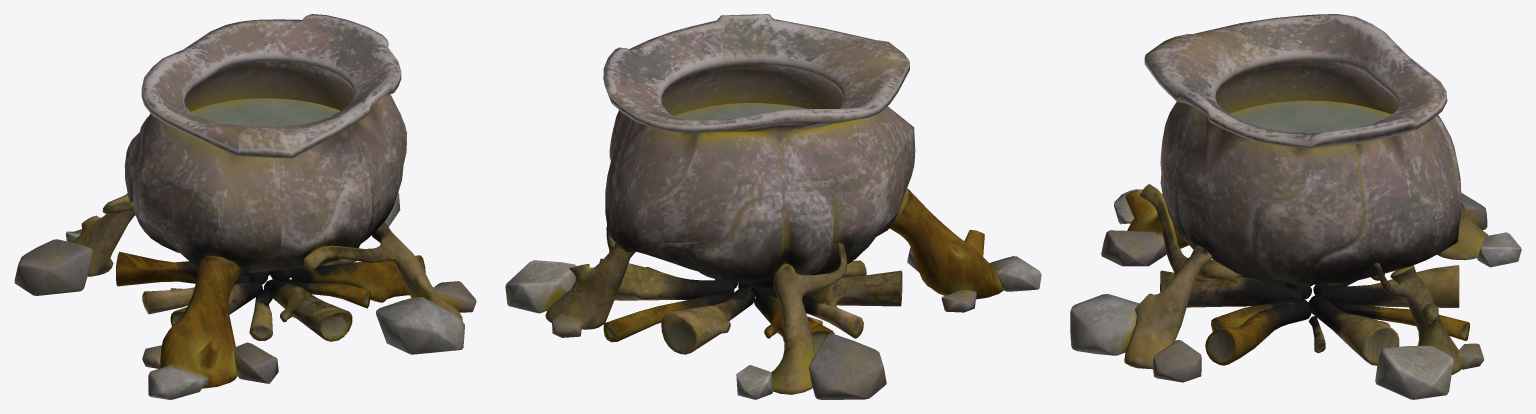
The model's file is Cauldron.fbx.
3 renders of one model, left to right at view 1: azimuth 30°, elevation 25°; view 2: azimuth 150°, elevation 25°; view 3: azimuth 270°, elevation 25°, orthographic. The views are drawn at different scales.
Visible parts, largest first — view 1: CauldronL; view 2: CauldronL; view 3: CauldronL.
Part boxes in pixels (x1,y1,x2,y2): CauldronL: (14,14,476,399); CauldronL: (505,14,1041,399); CauldronL: (1070,14,1521,399).
Bounding box in the file's own units: 141 × 81 × 136.
